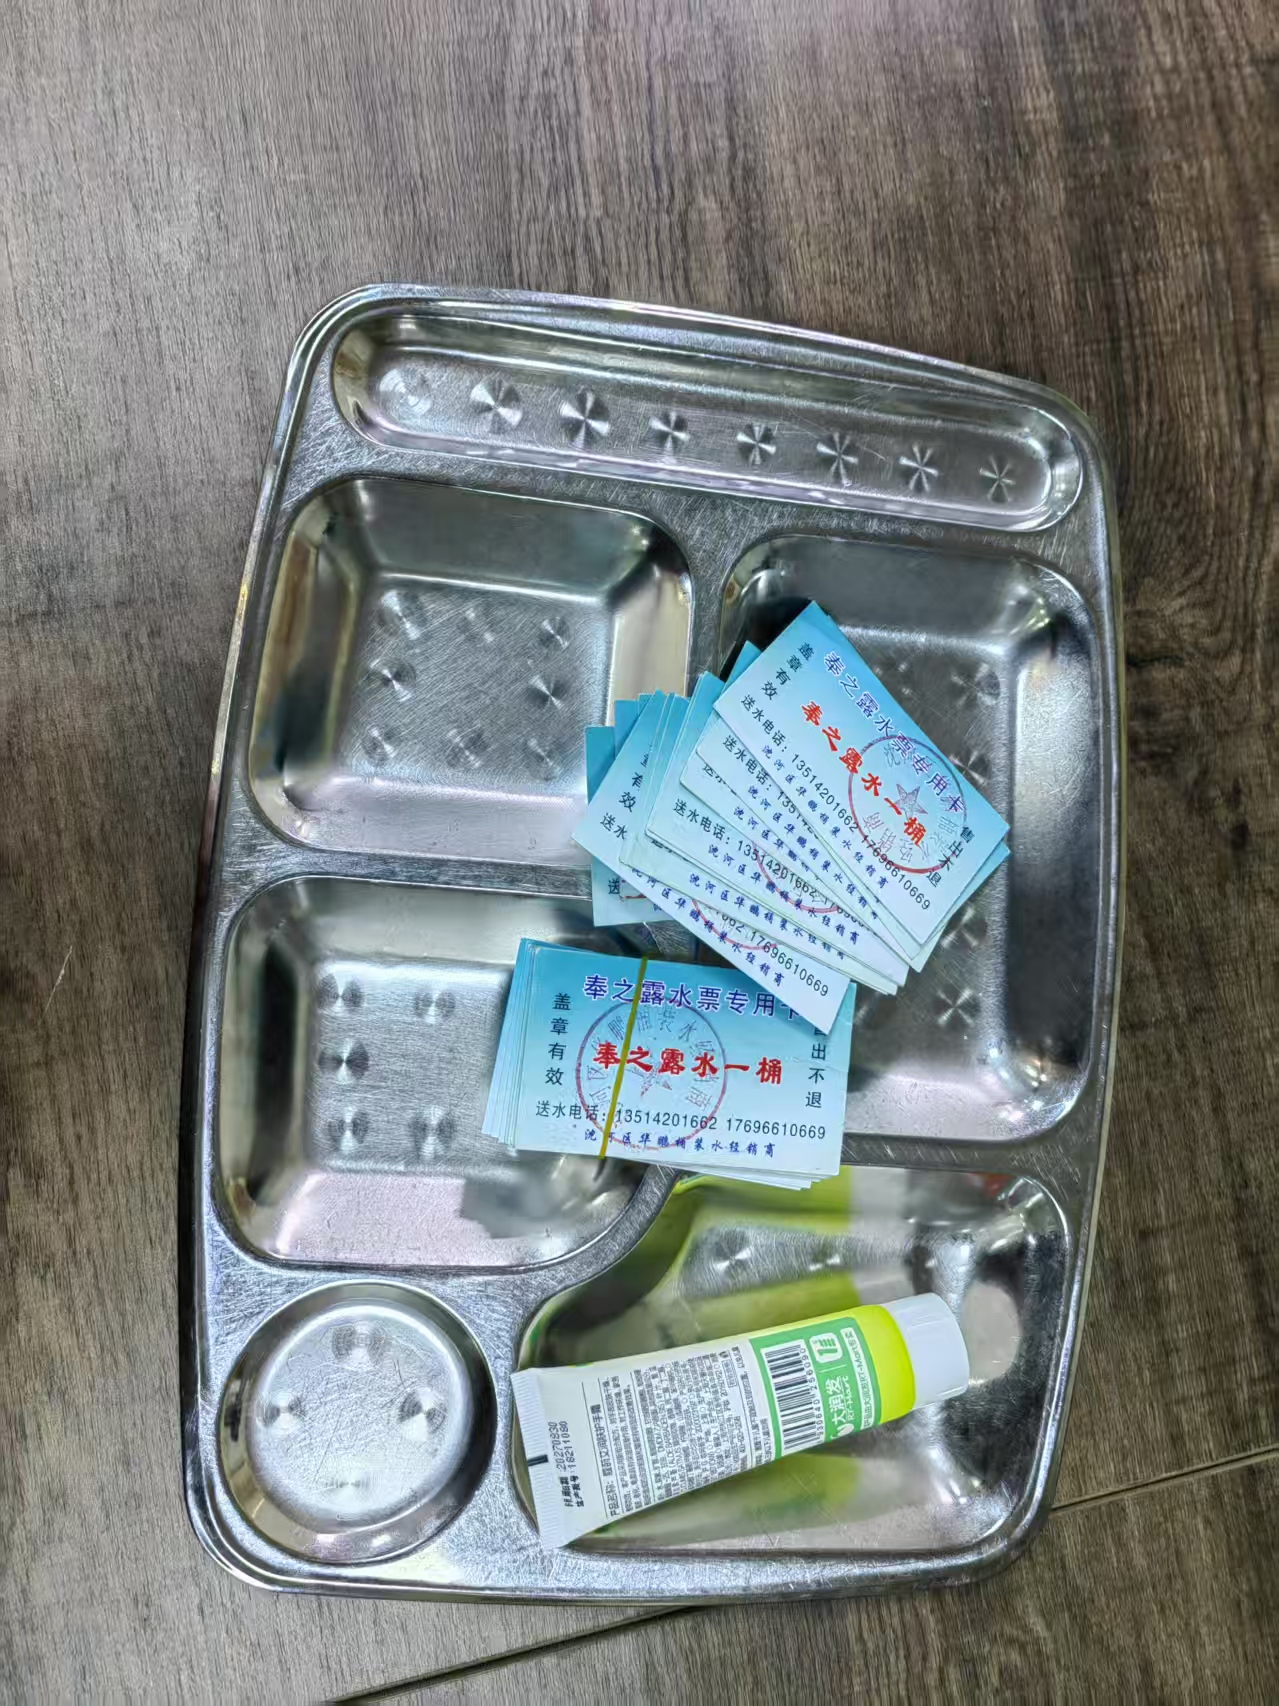moderate: (480, 590, 1016, 1557)
plate: (185, 280, 1128, 1595)
